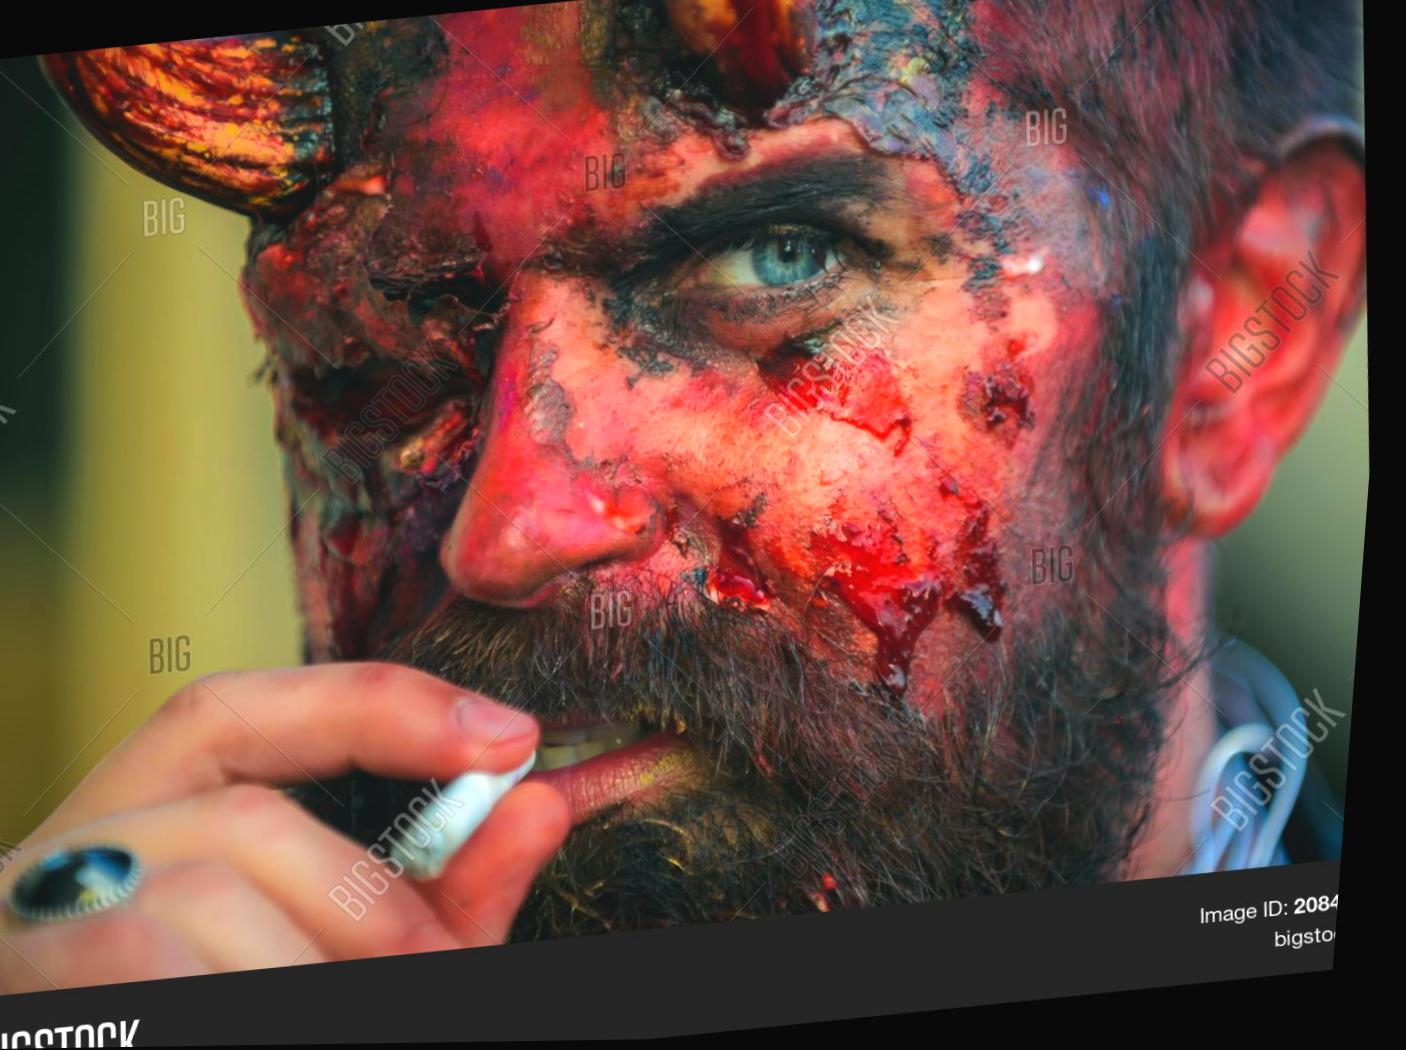Fire: (249, 0, 1119, 715), (37, 30, 335, 218)
